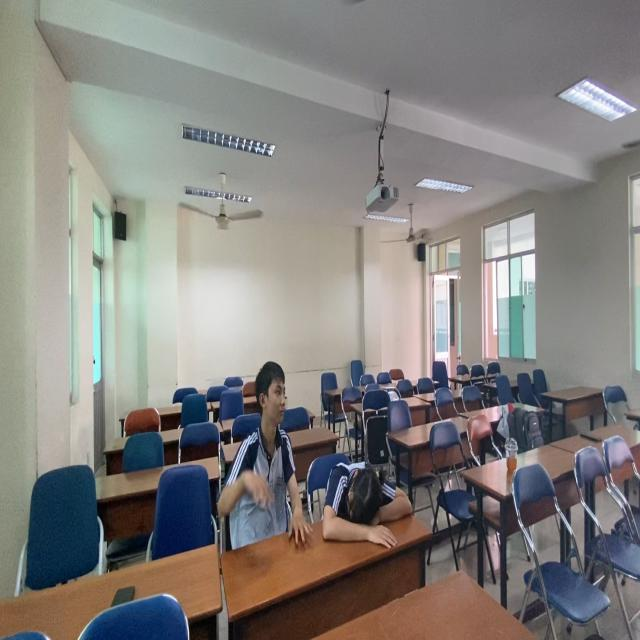sleep: (322, 452, 417, 564)
